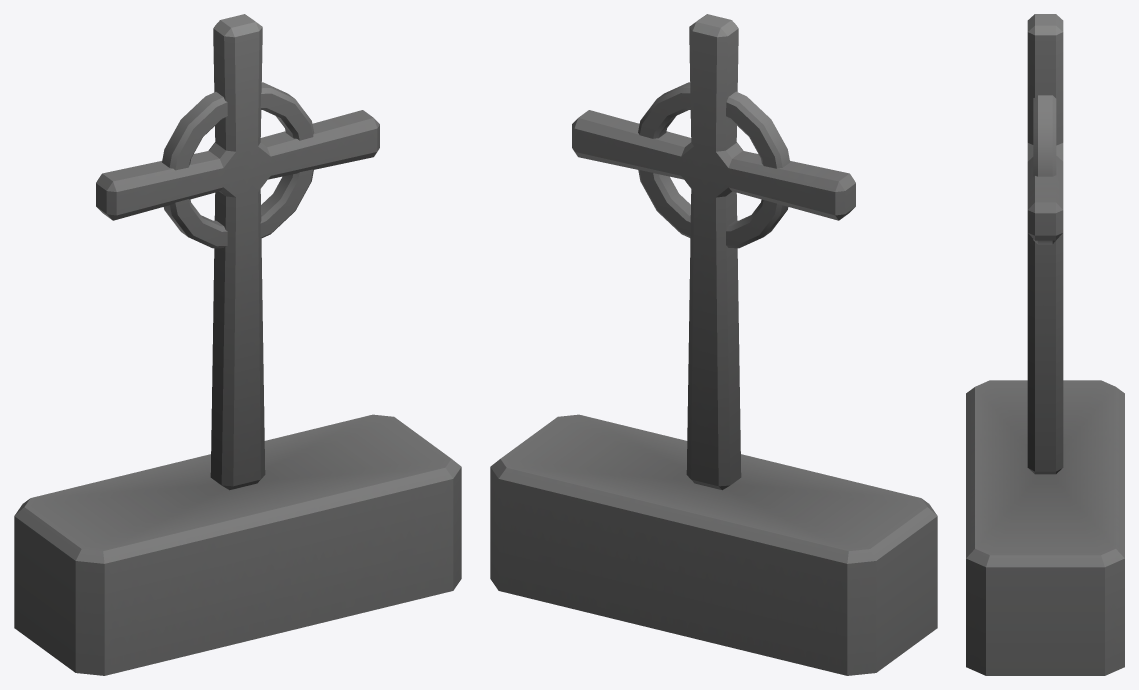
The model's file is Tombstone_Cross2.fbx.
3 renders of one model, left to right at view 1: azimuth 30°, elevation 25°; view 2: azimuth 150°, elevation 25°; view 3: azimuth 270°, elevation 25°, orthographic. The views are drawn at different scales.
Parts seen in each view (by area): view 1: Tombstone_Cross2; view 2: Tombstone_Cross2; view 3: Tombstone_Cross2.
Boxes of the visible parts, x1=… form: Tombstone_Cross2: x1=14, y1=14, x2=461, y2=675; Tombstone_Cross2: x1=490, y1=14, x2=937, y2=675; Tombstone_Cross2: x1=966, y1=14, x2=1124, y2=675.
Size of the model in its own units: 1.16 by 1.68 by 0.4277.
Materials: 1 (1 with a texture image).
